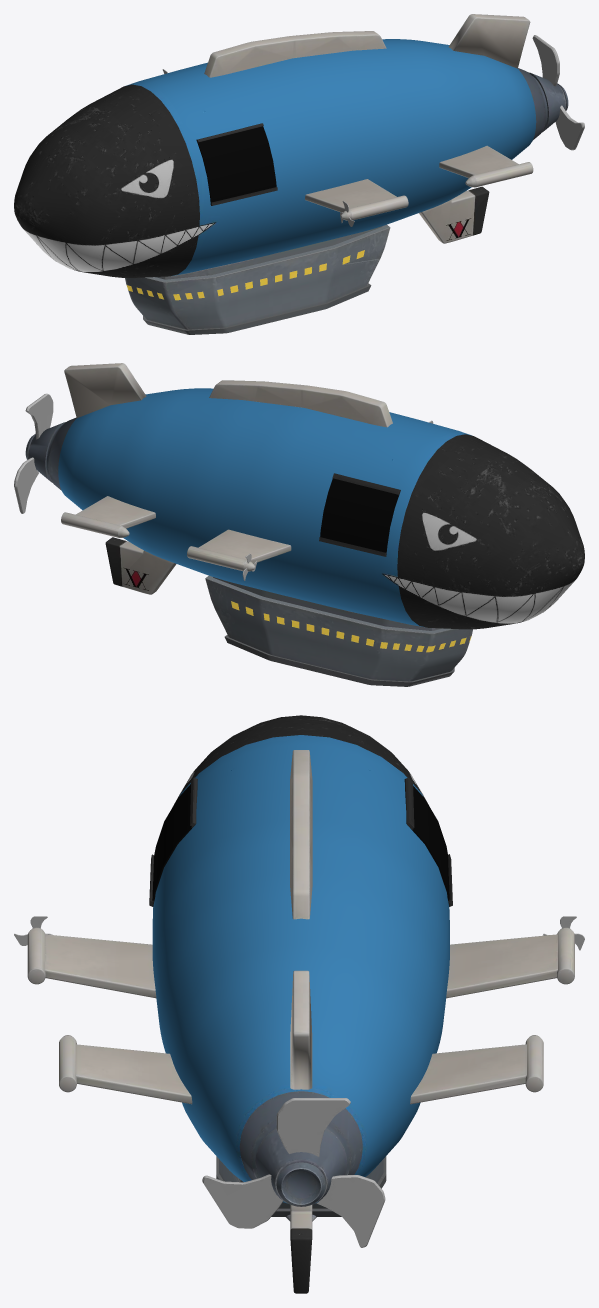
The model's file is blimp-transformed.glb.
The picture shows the model from 3 angles, top to bottom: view 1: azimuth 30°, elevation 25°; view 2: azimuth 150°, elevation 25°; view 3: azimuth 270°, elevation 25°; orthographic projection. The views are drawn at different scales.
Parts seen in each view (by area): view 1: defaultMaterial (×10); view 2: defaultMaterial (×10); view 3: defaultMaterial (×7).
Part boxes in pixels (box(x1,y1,x2,y2)): defaultMaterial (×10): box(14, 14, 584, 334); defaultMaterial (×10): box(14, 363, 584, 686); defaultMaterial (×7): box(14, 715, 584, 1293).
Bounding box in the file's own units: 1525 × 694 × 942.
Materials: 10 (10 with a texture image).
